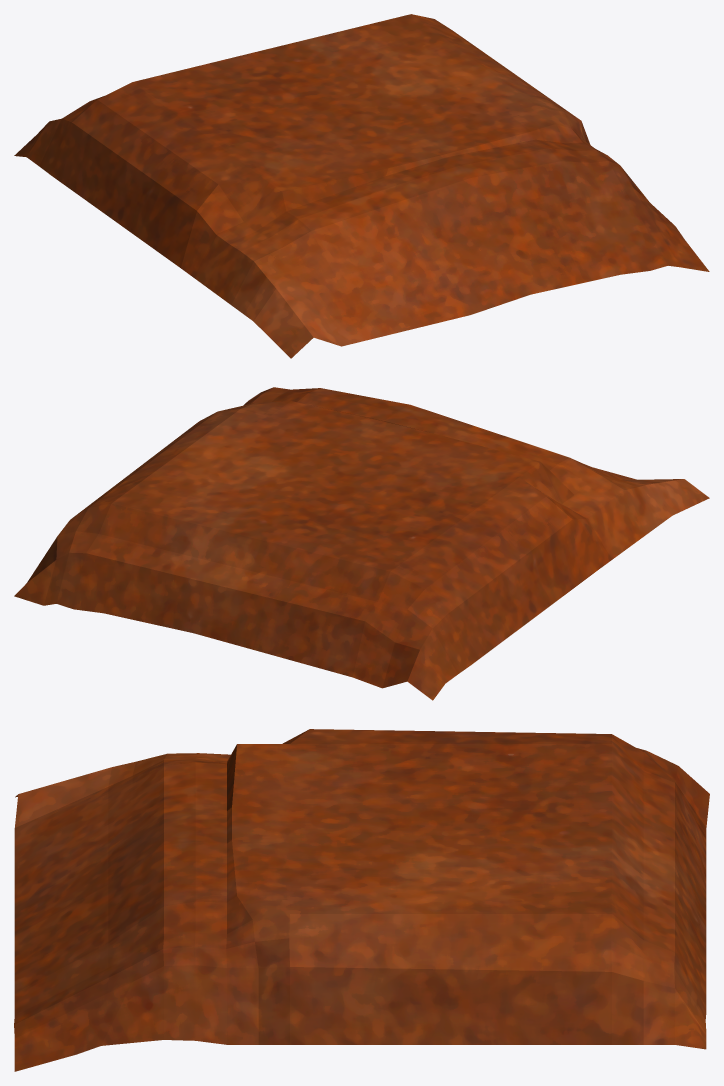
Rendered from Moutain_05.fbx.
3 views of the same model, one above another, from view 1: azimuth 30°, elevation 25°; view 2: azimuth 150°, elevation 25°; view 3: azimuth 270°, elevation 25° (orthographic). The views are drawn at different scales.
Visible parts, largest first — view 1: Moutain_05; view 2: Moutain_05; view 3: Moutain_05.
Part boxes in pixels (bbox=[...]): Moutain_05: bbox=[14, 14, 709, 358]; Moutain_05: bbox=[14, 387, 709, 700]; Moutain_05: bbox=[14, 729, 709, 1071].
Size of the model in its own units: 5189 by 1154 by 5981.
